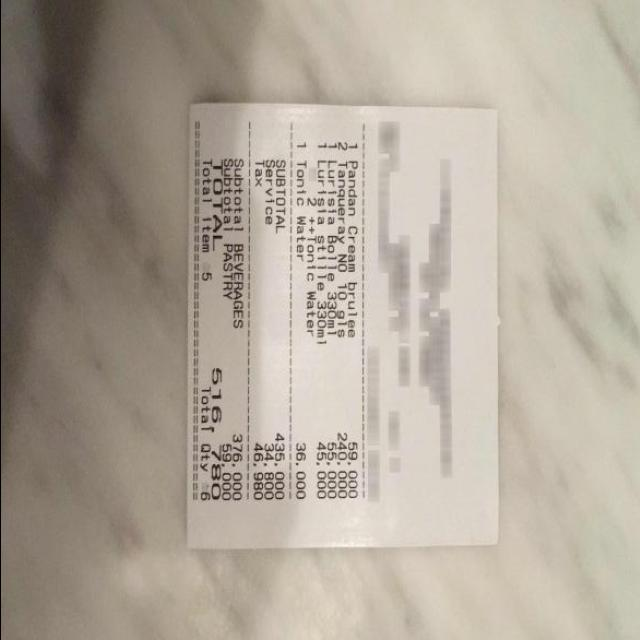kertas: (186, 104, 496, 548)
